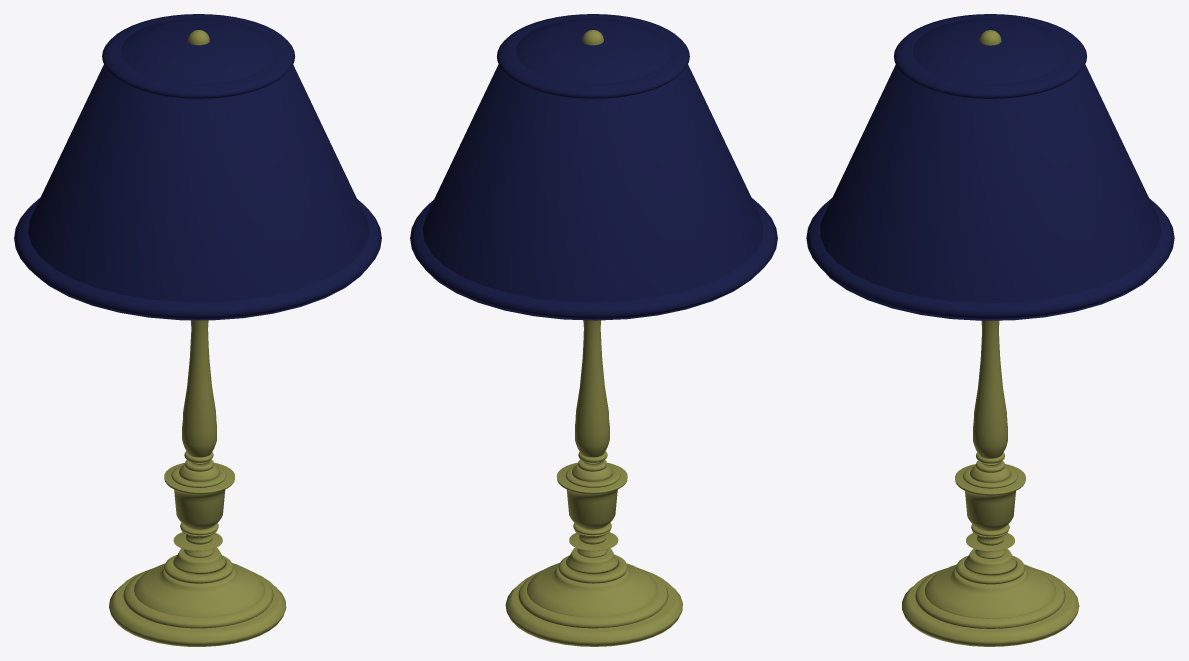
File: light.gltf
The picture shows the model from 3 angles, left to right: view 1: azimuth 30°, elevation 25°; view 2: azimuth 150°, elevation 25°; view 3: azimuth 270°, elevation 25°; orthographic projection.
Visible parts, largest first — view 1: Cylinder, Cylinder.001; view 2: Cylinder, Cylinder.001; view 3: Cylinder, Cylinder.001.
Part boxes in pixels (x1,y1,x2,y2): Cylinder: [14, 14, 381, 320]; Cylinder.001: [109, 320, 286, 646]; Cylinder: [410, 14, 777, 320]; Cylinder.001: [505, 320, 682, 646]; Cylinder: [806, 14, 1174, 320]; Cylinder.001: [902, 320, 1079, 646].
Size of the model in its own units: 0.9908 by 1.72 by 0.9908.
